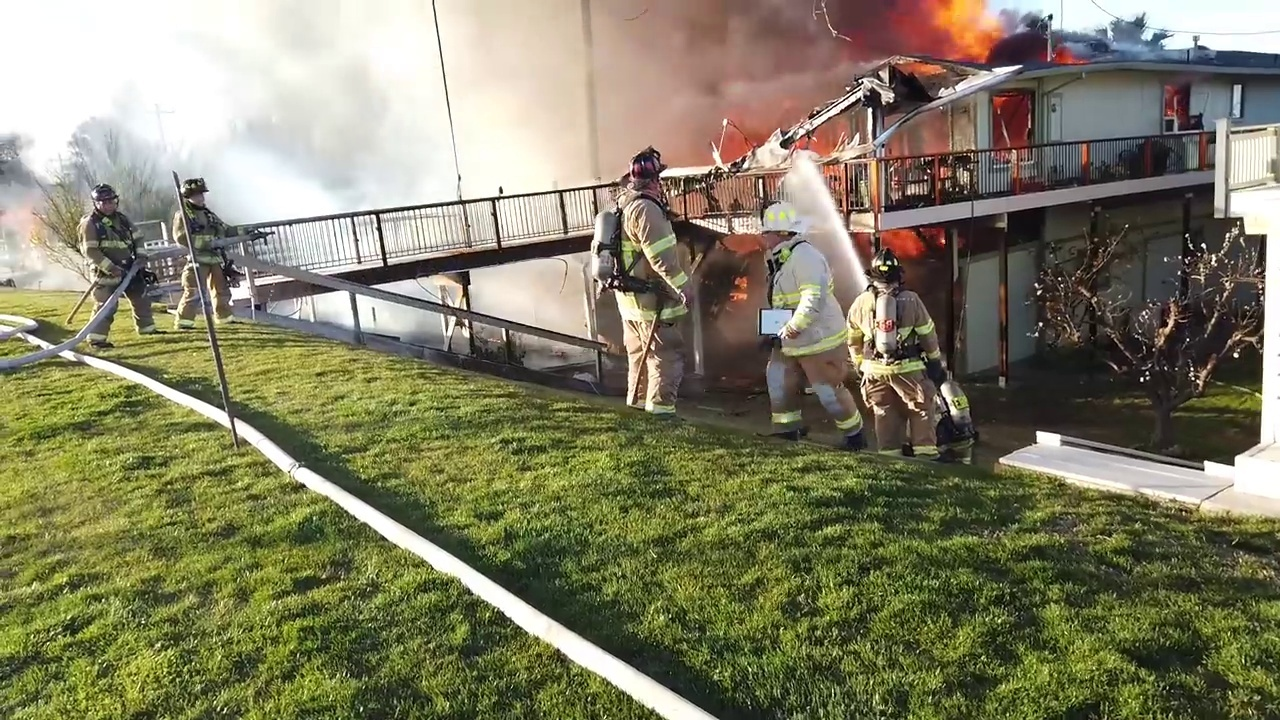fire: (925, 1, 1003, 62), (989, 95, 1035, 146), (880, 228, 947, 262), (721, 271, 758, 314), (1163, 88, 1189, 119)
smoke: (247, 5, 541, 206), (550, 1, 927, 144), (1, 12, 243, 213), (1086, 2, 1223, 57), (469, 271, 587, 330), (354, 295, 443, 352), (265, 290, 353, 332), (984, 1, 1056, 41)
